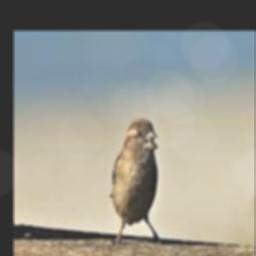Sparrow: (110, 117, 161, 242)
